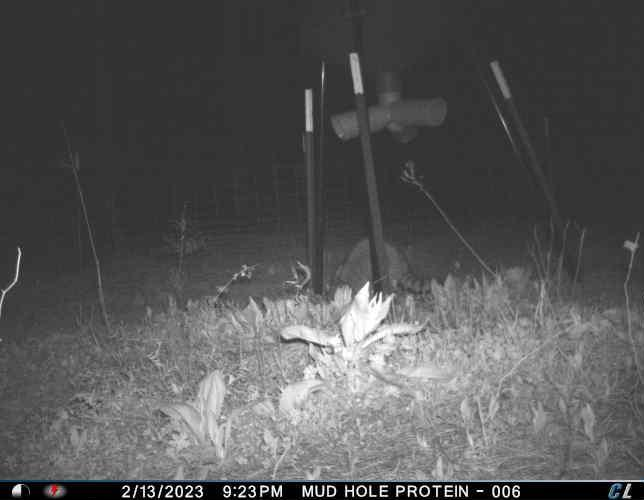Raccoon: (331, 229, 431, 296)
